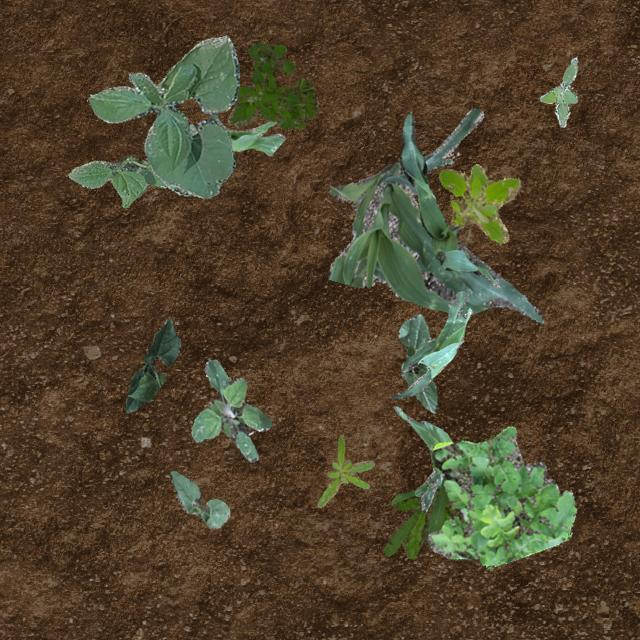crop: (327, 108, 542, 322), (88, 34, 238, 198), (399, 114, 499, 286), (391, 290, 472, 398), (392, 406, 452, 512), (124, 318, 180, 412), (66, 156, 166, 207), (398, 313, 438, 412), (168, 470, 228, 528), (208, 112, 284, 154)
weed: (426, 426, 576, 566), (190, 358, 272, 462), (226, 42, 318, 128), (438, 162, 520, 244), (382, 478, 454, 558), (316, 434, 374, 506), (538, 56, 576, 126)
